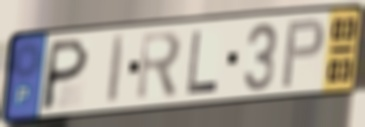3: (242, 21, 279, 93)
I: (105, 31, 129, 107)
L: (184, 29, 220, 97)
P: (38, 35, 92, 113), (279, 15, 327, 91)
R: (135, 28, 185, 104)
